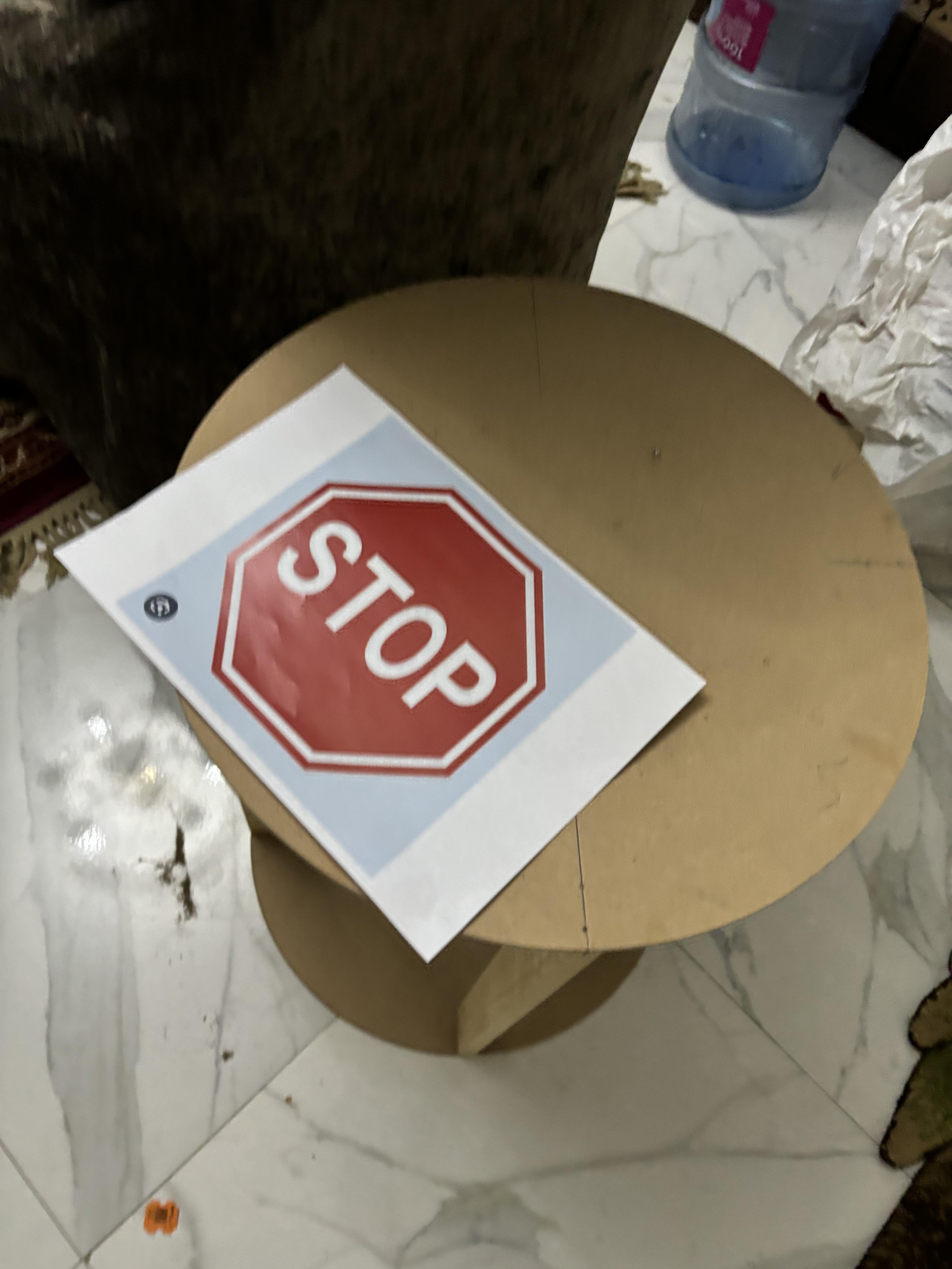Stop: (196, 474, 560, 787)
